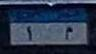1: (26, 25, 34, 41)
meem: (63, 24, 74, 41)
